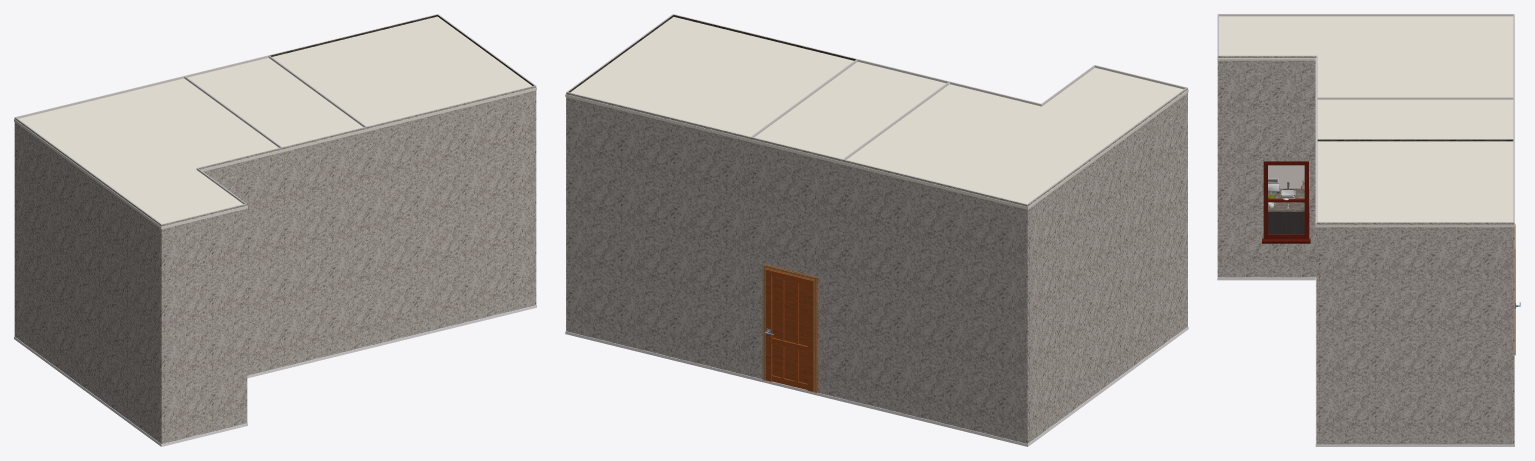
The model's file is ProcTHOR-Train-132.glb.
3 views of the same model, side by side, from view 1: azimuth 30°, elevation 25°; view 2: azimuth 150°, elevation 25°; view 3: azimuth 270°, elevation 25° (orthographic). The views are drawn at different scales.
Parts seen in each view (by area): view 1: WallInside#wall|exterior|0.00|5.26|3.51|5.26, WallInside#wall|exterior|8.77|1.75|8.77|7.02, Ceiling#room|6|c, WallInside#wall|exterior|7.02|7.02|8.77|7.02, WallInside#wall|exterior|3.51|5.26|5.26|5.26, Ceiling#room|2|c, WallInside#wall|exterior|5.26|5.26|7.02|5.26, Ceiling#room|7|c, Floor#room|6|f, Floor#room|2|f; view 2: WallInside#wall|exterior|0.00|1.75|3.51|1.75, WallInside#wall|exterior|5.26|1.75|8.77|1.75, WallInside#wall|exterior|8.77|1.75|8.77|7.02, Ceiling#room|6|c, Ceiling#room|2|c, WallInside#wall|exterior|3.51|1.75|5.26|1.75, Ceiling#room|7|c, Doorway_10, Floor#room|6|f, Floor#room|2|f; view 3: WallInside#wall|exterior|0.00|1.75|0.00|5.26, Ceiling#room|6|c, WallInside#wall|exterior|7.02|5.26|7.02|7.02, Ceiling#room|2|c, Ceiling#room|7|c, WallInside#wall|6|8.77|1.75|8.77|7.02, Window_Hung_32x60, Countertop_Island_8x3, Floor#room|2|f, WallInside#wall|7|5.26|1.75|5.26|5.26, WallInside#wall|2|3.51|1.75|3.51|5.26, Floor#room|6|f.
Boxes of the visible parts, x1,y1,x2,y2 form: WallInside#wall|exterior|0.00|5.26|3.51|5.26: (366, 86, 536, 346); WallInside#wall|exterior|8.77|1.75|8.77|7.02: (14, 117, 161, 443); Ceiling#room|6|c: (14, 78, 283, 229); WallInside#wall|exterior|7.02|7.02|8.77|7.02: (161, 204, 247, 443); WallInside#wall|exterior|3.51|5.26|5.26|5.26: (282, 127, 366, 366); Ceiling#room|2|c: (270, 16, 536, 131); WallInside#wall|exterior|5.26|5.26|7.02|5.26: (198, 147, 282, 375); Ceiling#room|7|c: (185, 58, 367, 151); Floor#room|6|f: (14, 336, 283, 446); Floor#room|2|f: (366, 305, 536, 348); WallInside#wall|exterior|0.00|1.75|3.51|1.75: (566, 92, 751, 375); WallInside#wall|exterior|5.26|1.75|8.77|1.75: (843, 160, 1027, 443); WallInside#wall|exterior|8.77|1.75|8.77|7.02: (1027, 87, 1187, 443); Ceiling#room|6|c: (841, 67, 1188, 209); Ceiling#room|2|c: (565, 17, 853, 142); WallInside#wall|exterior|3.51|1.75|5.26|1.75: (750, 137, 843, 398); Ceiling#room|7|c: (751, 62, 949, 164); Doorway_10: (762, 264, 817, 392); Floor#room|6|f: (841, 326, 1188, 446); Floor#room|2|f: (565, 331, 751, 379); WallInside#wall|exterior|0.00|1.75|0.00|5.26: (1316, 222, 1514, 444); Ceiling#room|6|c: (1217, 16, 1514, 99); WallInside#wall|exterior|7.02|5.26|7.02|7.02: (1217, 56, 1316, 277); Ceiling#room|2|c: (1315, 141, 1514, 227); Ceiling#room|7|c: (1315, 99, 1514, 140); WallInside#wall|6|8.77|1.75|8.77|7.02: (1219, 14, 1513, 188); Window_Hung_32x60: (1262, 161, 1310, 243); Countertop_Island_8x3: (1268, 188, 1309, 235); Floor#room|2|f: (1315, 360, 1514, 446); WallInside#wall|7|5.26|1.75|5.26|5.26: (1316, 97, 1513, 99); WallInside#wall|2|3.51|1.75|3.51|5.26: (1316, 139, 1513, 141); Floor#room|6|f: (1217, 235, 1316, 319).
Size of what is drawn, in the model's own units: 8.81 by 4.4 by 5.4.
236 materials, 96 textured.
